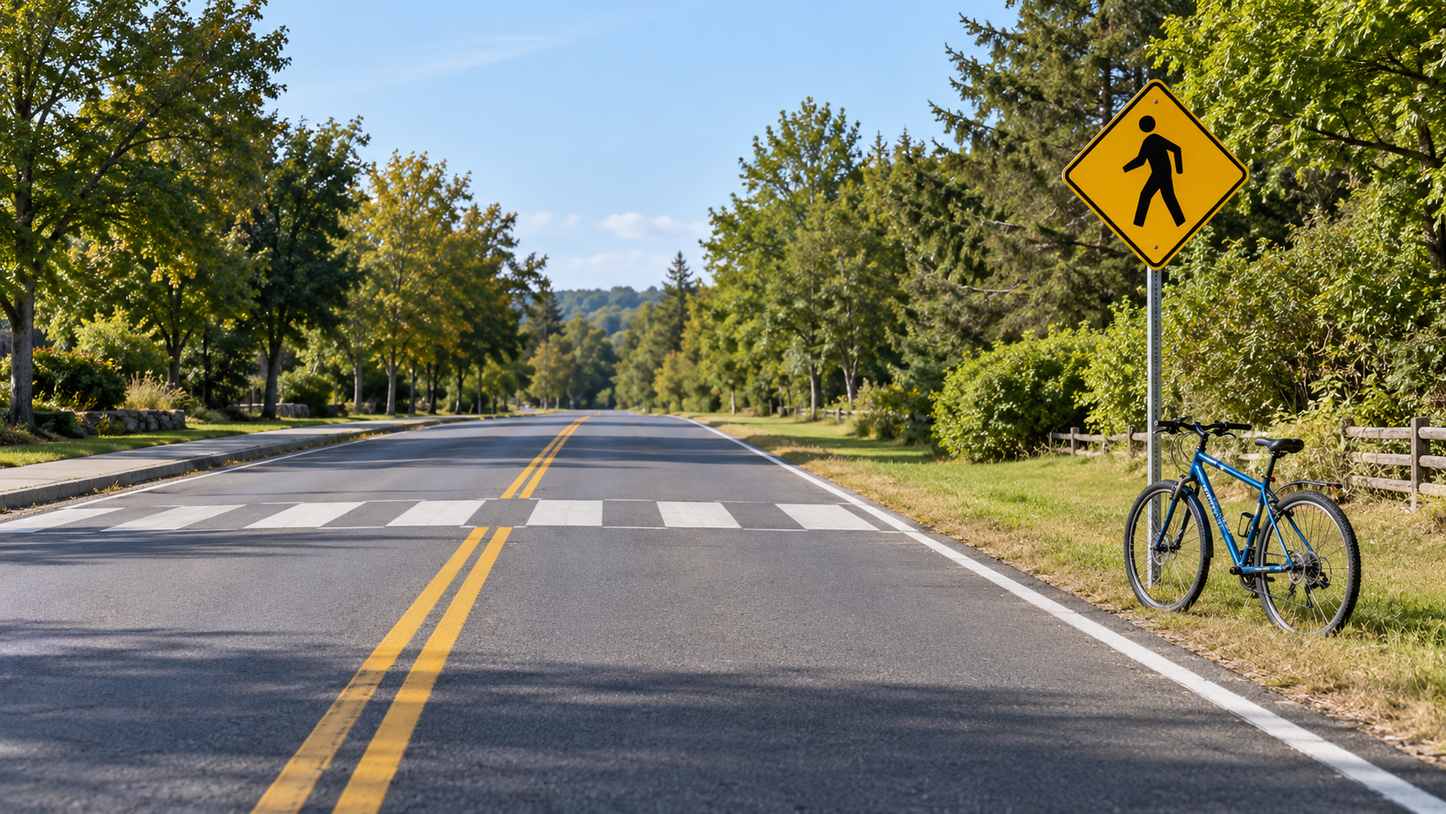bicycle: (1117, 422, 1366, 632)
crossing_warning_sign: (1059, 76, 1250, 277)
zebra_crossing: (0, 497, 951, 545)
